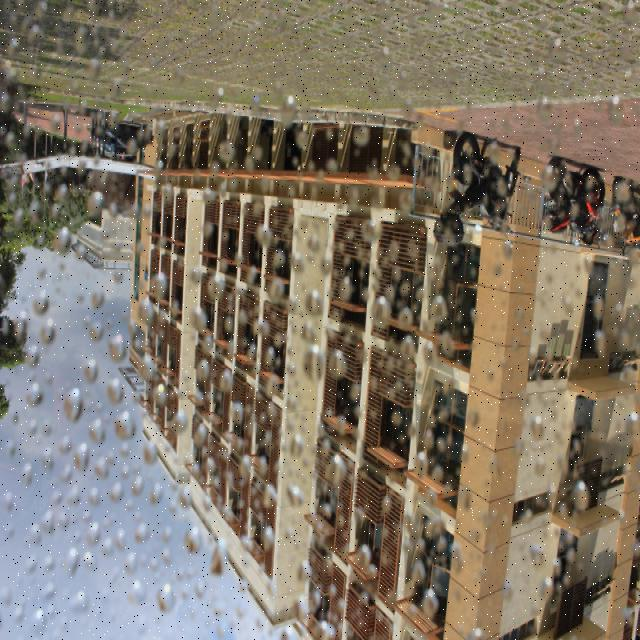raindrop: (364, 34, 411, 74), (412, 579, 448, 625), (68, 19, 100, 68), (519, 332, 552, 379), (190, 407, 223, 452), (192, 68, 228, 109), (535, 152, 570, 193), (497, 558, 523, 610), (41, 174, 78, 210), (280, 472, 314, 511), (150, 372, 183, 412), (528, 400, 552, 454), (376, 231, 411, 268), (345, 274, 378, 312), (62, 378, 87, 428), (388, 176, 419, 216), (48, 224, 84, 258), (293, 289, 334, 317), (532, 99, 566, 132), (324, 452, 352, 492), (142, 259, 166, 304), (137, 335, 174, 364), (570, 474, 596, 514), (324, 344, 350, 384), (528, 530, 550, 577), (543, 32, 577, 62), (158, 130, 190, 161), (23, 17, 55, 48), (286, 118, 312, 156), (424, 294, 454, 326), (271, 89, 311, 113), (360, 211, 388, 244), (210, 532, 230, 577), (33, 220, 61, 252), (252, 400, 278, 434), (512, 294, 534, 334), (254, 310, 277, 348), (180, 516, 204, 552), (260, 474, 284, 510), (480, 260, 506, 293), (487, 235, 518, 262), (224, 396, 246, 434), (111, 252, 137, 284), (205, 266, 228, 302), (588, 288, 610, 325), (294, 320, 323, 348), (615, 167, 633, 212), (302, 513, 328, 544), (193, 346, 218, 378), (386, 366, 406, 406), (318, 432, 339, 470), (102, 374, 130, 402), (72, 352, 98, 382), (440, 322, 466, 352), (258, 518, 282, 550), (421, 515, 442, 551), (305, 222, 330, 252), (610, 206, 632, 240), (234, 454, 258, 485), (283, 428, 306, 460), (38, 317, 59, 352), (23, 290, 50, 317), (130, 574, 156, 602), (106, 328, 128, 361), (236, 409, 258, 442), (590, 328, 610, 364), (449, 542, 466, 584), (116, 406, 139, 437), (336, 272, 358, 304), (156, 581, 174, 620), (350, 538, 375, 566), (627, 396, 640, 449), (24, 338, 42, 376), (64, 536, 80, 578), (122, 543, 140, 580), (618, 595, 640, 625), (134, 516, 156, 546), (137, 291, 157, 324), (432, 531, 454, 561), (302, 350, 324, 380), (213, 137, 234, 168), (348, 120, 366, 156), (624, 524, 640, 564), (12, 595, 32, 627), (20, 456, 38, 491), (190, 181, 212, 209), (252, 218, 274, 246), (558, 286, 576, 320), (386, 263, 407, 292), (51, 116, 72, 145), (22, 374, 42, 404), (5, 203, 25, 233), (250, 195, 270, 225), (85, 313, 108, 339), (65, 484, 88, 510), (37, 507, 56, 538), (607, 95, 627, 124), (74, 442, 92, 474), (31, 605, 49, 637), (370, 296, 388, 328), (270, 274, 288, 306), (141, 438, 162, 465), (260, 336, 277, 369), (56, 464, 76, 492), (83, 193, 103, 221), (238, 141, 266, 161), (263, 374, 286, 398), (244, 265, 268, 288), (144, 203, 164, 230), (222, 360, 240, 390), (269, 240, 291, 264), (23, 409, 38, 444), (232, 242, 252, 268), (196, 218, 216, 244), (390, 401, 404, 438), (144, 480, 164, 505), (46, 486, 66, 511), (88, 412, 104, 443), (0, 480, 15, 513), (318, 253, 336, 280), (22, 522, 44, 544), (282, 179, 304, 201), (406, 234, 422, 264), (399, 304, 419, 328), (364, 373, 384, 397), (132, 468, 146, 502), (6, 430, 19, 466), (224, 170, 245, 192), (464, 401, 484, 424), (400, 274, 420, 297), (41, 444, 56, 474), (109, 198, 125, 226), (420, 426, 436, 454), (563, 195, 582, 218), (132, 186, 147, 214), (114, 522, 130, 548), (58, 506, 74, 532), (1, 583, 17, 609), (322, 154, 348, 170), (111, 471, 122, 508), (346, 374, 361, 401), (486, 354, 499, 385), (404, 336, 422, 358), (296, 554, 314, 576), (94, 456, 110, 480), (102, 532, 118, 556), (86, 522, 102, 546), (60, 433, 76, 457), (92, 289, 111, 309), (580, 167, 598, 188), (366, 397, 381, 422), (45, 598, 63, 618), (474, 516, 486, 546), (4, 511, 18, 536), (86, 485, 100, 509), (386, 154, 400, 178), (42, 260, 58, 280), (12, 320, 28, 340), (461, 625, 482, 640), (44, 570, 55, 598), (242, 152, 254, 177), (552, 554, 564, 578), (530, 598, 548, 614), (162, 542, 174, 566), (72, 588, 84, 610), (44, 551, 56, 572), (294, 248, 308, 266), (40, 424, 51, 446), (119, 436, 129, 460), (82, 546, 94, 566), (9, 405, 19, 428), (25, 549, 37, 568), (162, 524, 174, 540)
